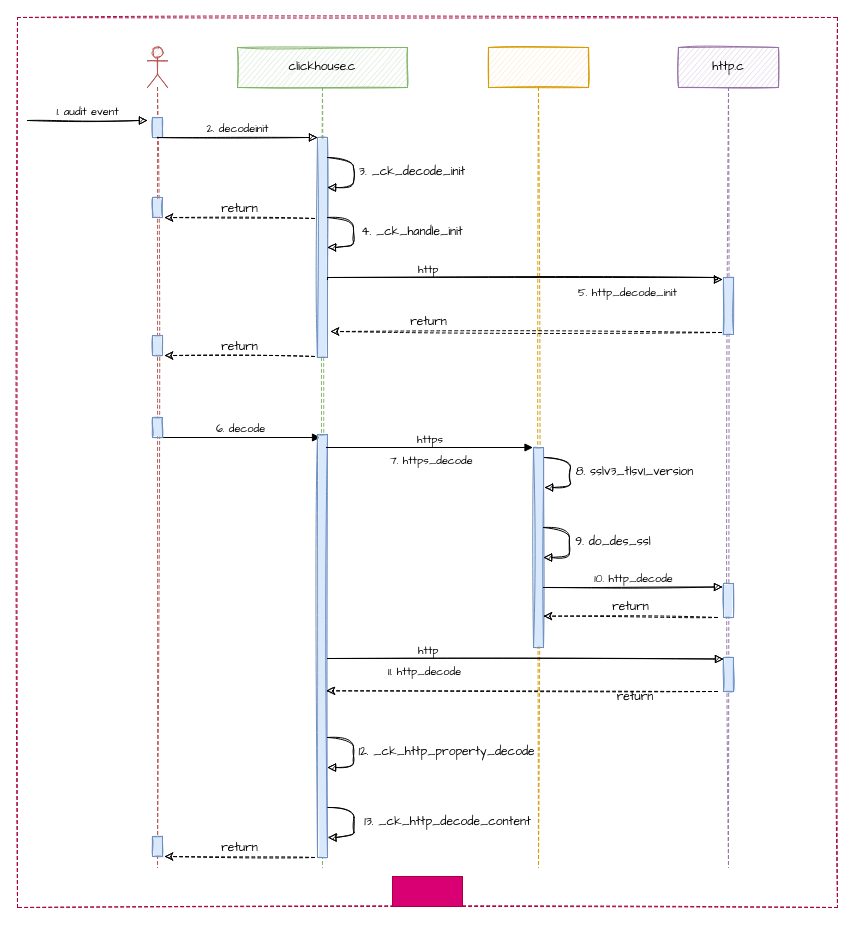
Image size: 855x925. Some labels were removed from this diagram. Here are the shapes that lost their labels. From the top down, the centre of each, then its label:
the point at 538,457: https.c
the point at 427,891: decode
